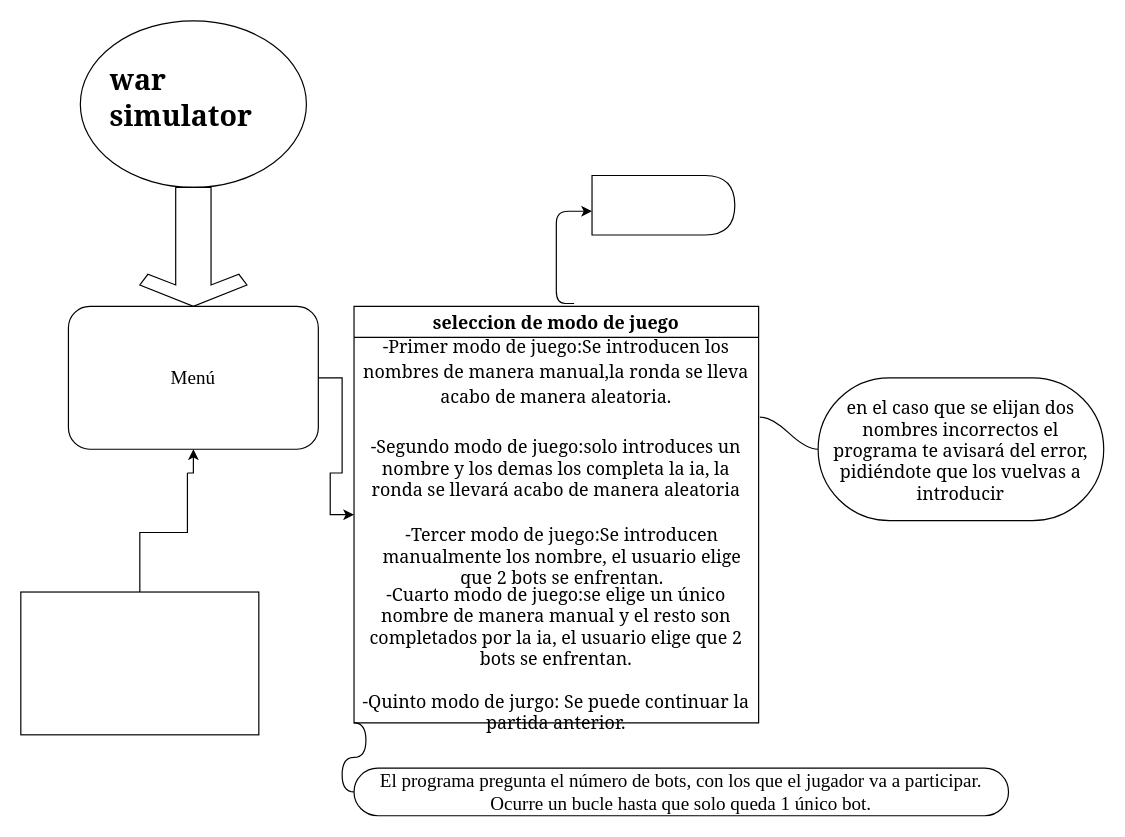
This 1125x837 diagram has some shape labels left out. Here are the shapes that lost their labels. From the top down, the centre of each, then its label:
the point at 663,204: mediante funciones
the point at 139,663: La información durante la partida se guarda en ficheros.
